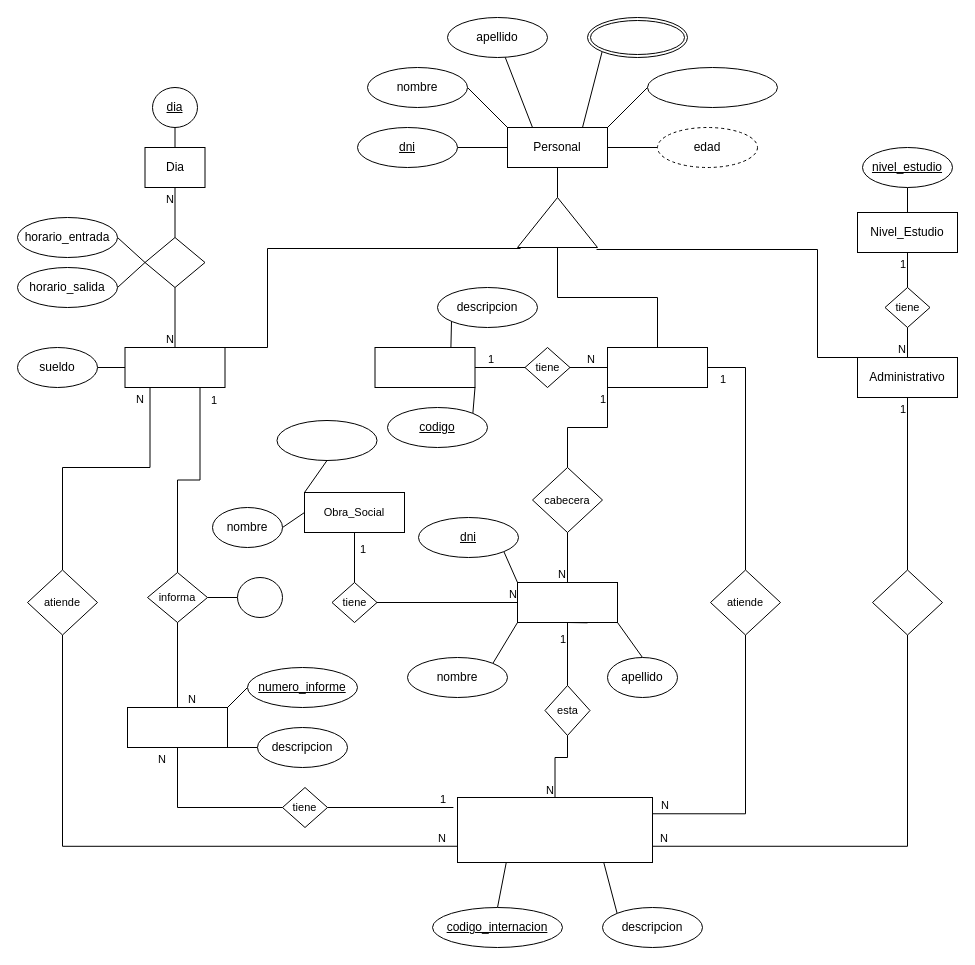
Some shapes in this 975 by 965 pixel diagram are drawn without their labels. The shapes that lost their labels are listed below. From the top down, each one's centre as x and y in pixels, then its label:
At (637,37): "telefonos".
At (712,87): "fecha_nacimiento".
At (557,222): "is_a".
At (174,262): "horario".
At (174,367): "Enfermero".
At (424,367): "Especialidad".
At (657,367): "Medico".
At (326,440): "codigo_obra".
At (259,597): "fecha".
At (567,602): "Paciente".
At (907,602): "administra".
At (177,727): "Informe".
At (554,829): "Internacion".
